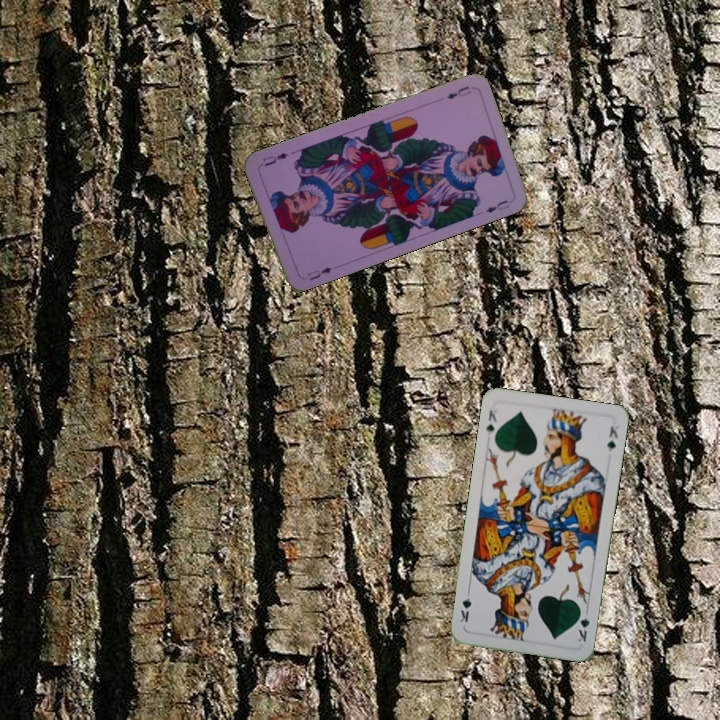EU: (303, 263, 335, 283), (442, 82, 474, 102)
GK: (574, 605, 592, 644), (482, 406, 500, 439)
